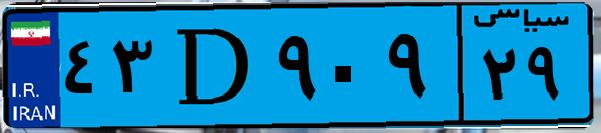0: (330, 28, 385, 110)
2: (475, 38, 525, 113)
3: (110, 28, 158, 98)
4: (57, 26, 110, 100)
9: (270, 28, 330, 110), (385, 28, 445, 110), (525, 38, 570, 115)
D: (158, 12, 270, 120)
